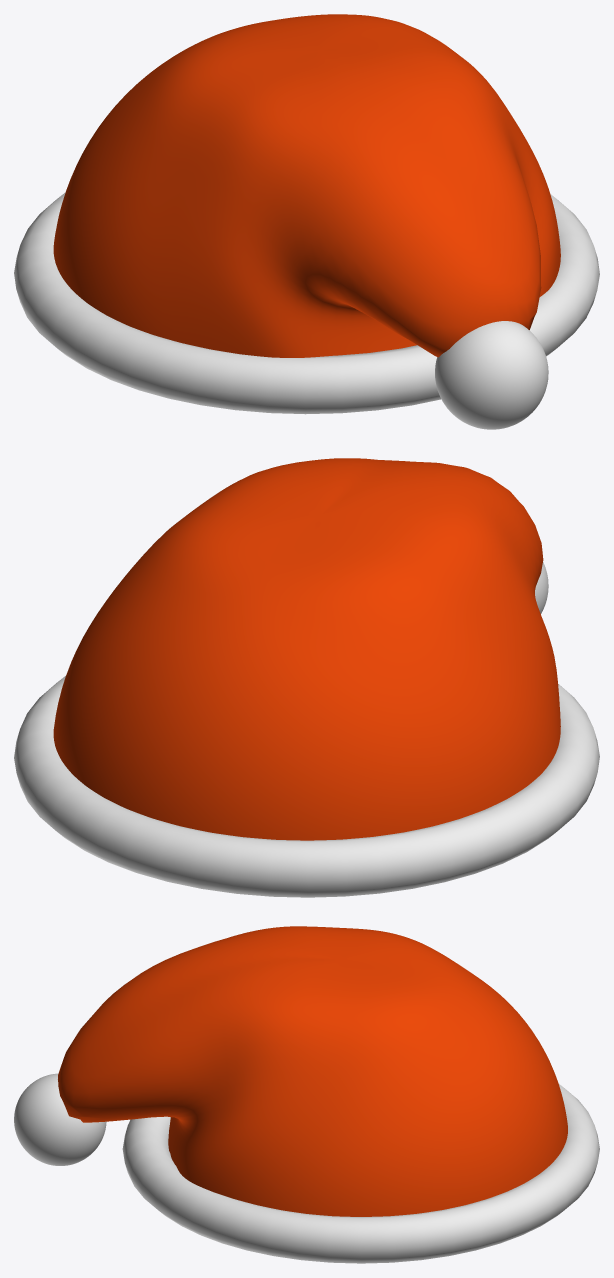
Rendered from shapka_deda.fbx.
3 renders of one model, top to bottom at view 1: azimuth 30°, elevation 25°; view 2: azimuth 150°, elevation 25°; view 3: azimuth 270°, elevation 25°, orthographic. The views are drawn at different scales.
Visible parts, largest first — view 1: Shapka_Deda; view 2: Shapka_Deda; view 3: Shapka_Deda.
Part boxes in pixels (x1,y1,x2,y2): Shapka_Deda: (14,14,599,429); Shapka_Deda: (14,458,599,897); Shapka_Deda: (14,926,599,1263).
Size of the model in its own units: 230 by 114 by 282.
